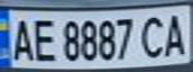7: (115, 15, 139, 61)
8: (57, 16, 81, 62), (78, 16, 100, 62), (97, 16, 118, 62)
A: (160, 9, 193, 57), (6, 15, 36, 63)
C: (136, 11, 169, 60)
E: (30, 16, 60, 63)
